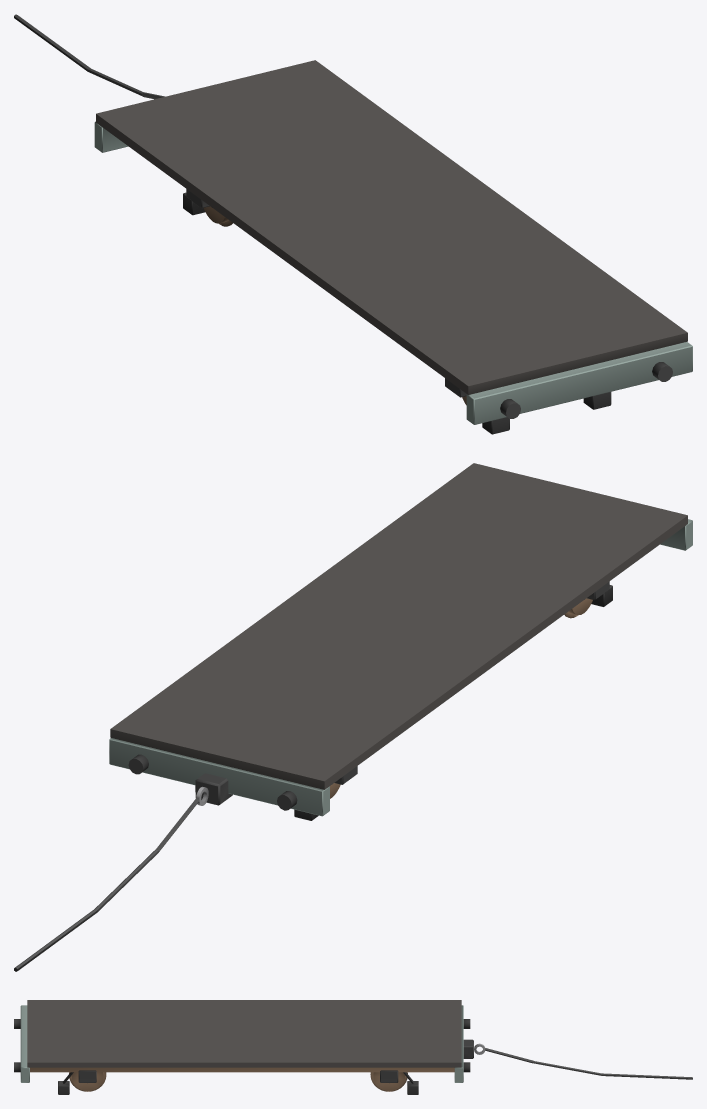
File: fun_car_frame.glb
3 views of the same model, one above another, from view 1: azimuth 30°, elevation 25°; view 2: azimuth 150°, elevation 25°; view 3: azimuth 270°, elevation 25° (orthographic). The views are drawn at different scales.
Visible parts, largest first — view 1: static; view 2: static; view 3: static.
Boxes of the visible parts, x1,y1,x2,y2 form: static: (14, 14, 692, 434); static: (14, 463, 692, 971); static: (14, 1000, 692, 1094).
Size of the model in its own units: 2.6 by 0.91 by 11.94.
